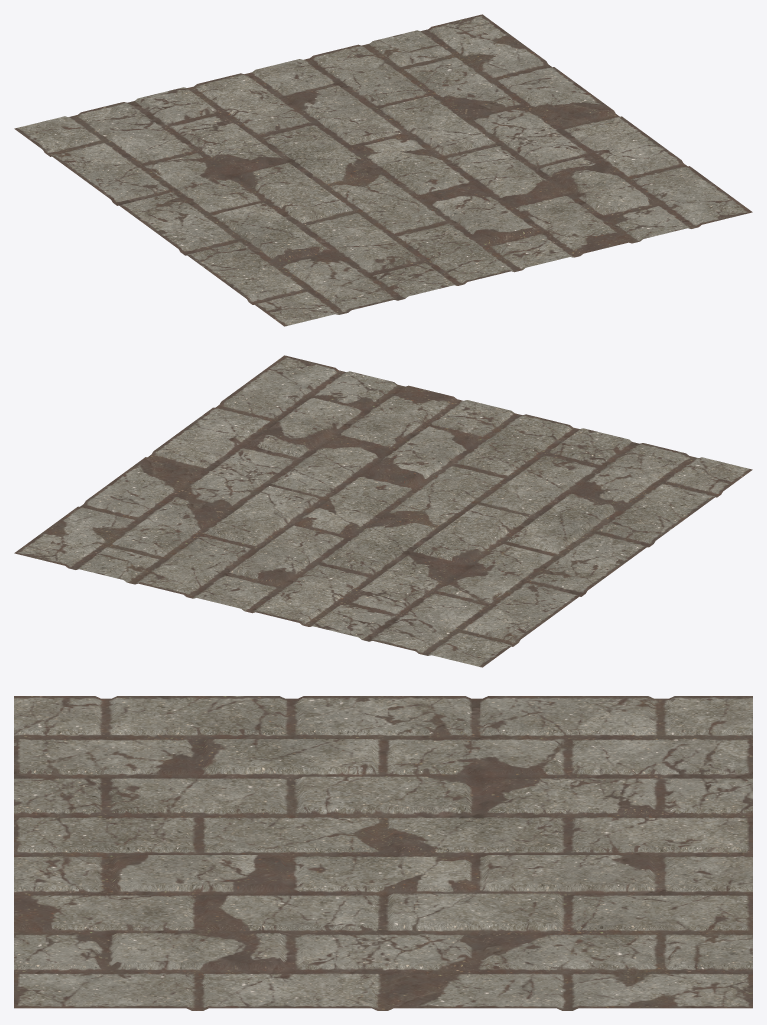
The model's file is SM_FloorTilesA.fbx.
3 renders of one model, top to bottom at view 1: azimuth 30°, elevation 25°; view 2: azimuth 150°, elevation 25°; view 3: azimuth 270°, elevation 25°, orthographic. The views are drawn at different scales.
Parts seen in each view (by area): view 1: SM_FloorTilesA_LOD0; view 2: SM_FloorTilesA_LOD0; view 3: SM_FloorTilesA_LOD0.
Part boxes in pixels (x1,y1,x2,y2): SM_FloorTilesA_LOD0: (14, 14, 752, 326); SM_FloorTilesA_LOD0: (14, 355, 752, 667); SM_FloorTilesA_LOD0: (14, 696, 752, 1010).
Bounding box in the file's own units: 200 × 200 × 1.29.
Materials: 1 (1 with a texture image).
